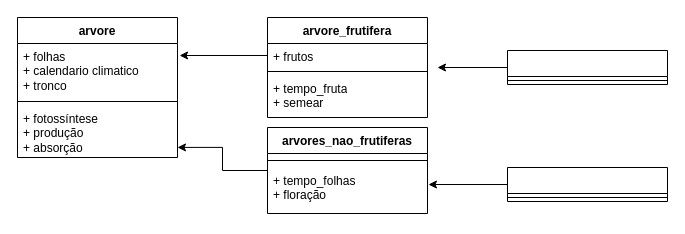
The diagram is 685 pixels wide and 234 high, and some of its shapes have lost their labels. Here are the shapes that lost their labels. From the top down, the centre of each, then its label:
At pixel 587 67: "cajueiro".
At pixel 587 184: "Ipês".
